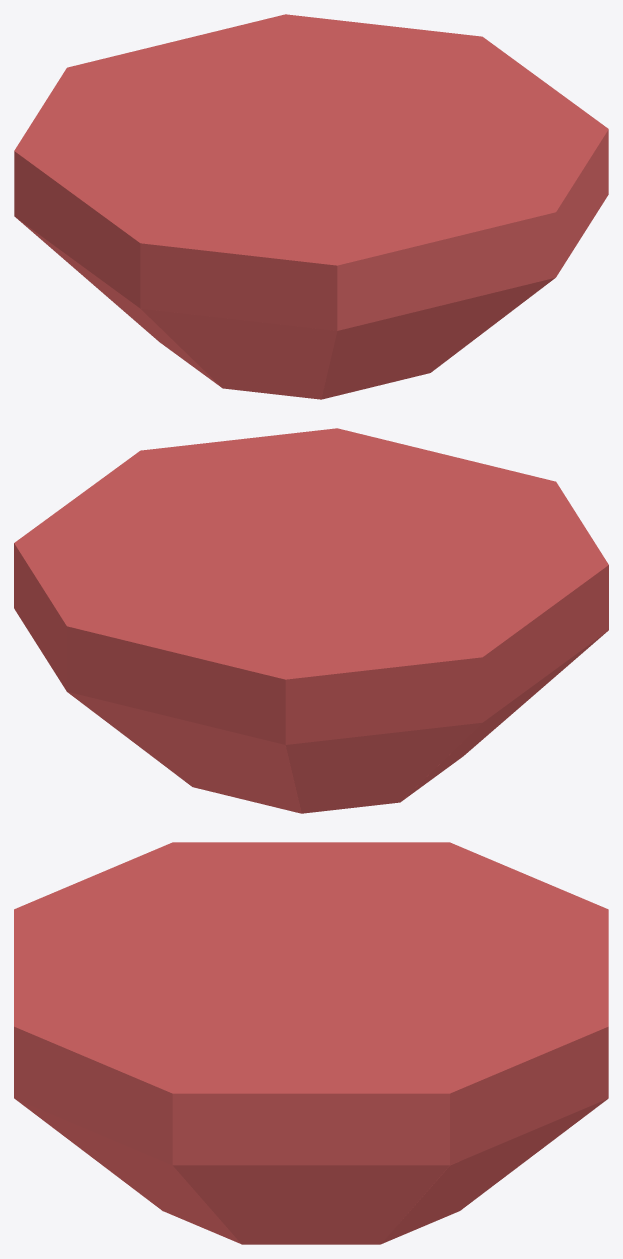
Rendered from km3_kaitendai.glb.
3 renders of one model, top to bottom at view 1: azimuth 30°, elevation 25°; view 2: azimuth 150°, elevation 25°; view 3: azimuth 270°, elevation 25°, orthographic. The views are drawn at different scales.
Visible parts, largest first — view 1: km3_kaitendai_col; view 2: km3_kaitendai_col; view 3: km3_kaitendai_col.
Part boxes in pixels (x1,y1,x2,y2): km3_kaitendai_col: [14, 14, 608, 399]; km3_kaitendai_col: [14, 428, 608, 813]; km3_kaitendai_col: [14, 842, 608, 1244].
Bounding box in the file's own units: 15.01 × 6.01 × 15.02.
